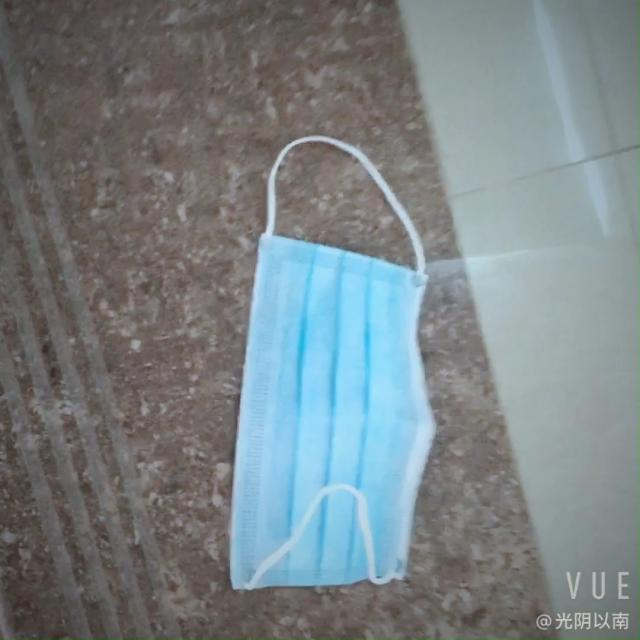non-organic waste: (200, 226, 442, 590)
